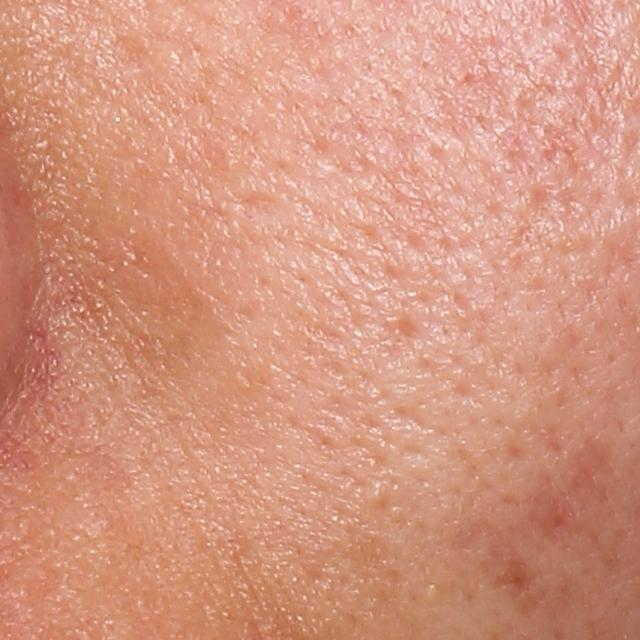atrophic_scar: (111, 29, 160, 64), (390, 313, 421, 345)
